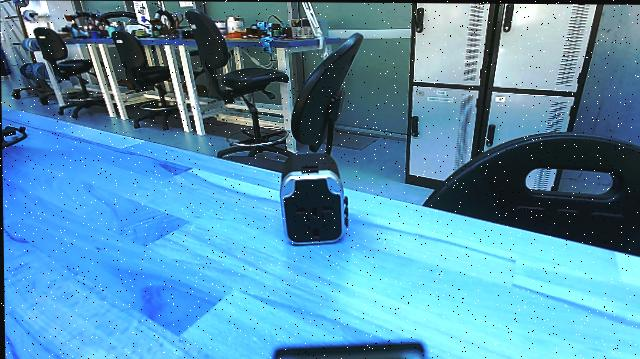adapter: (273, 150, 349, 250)
